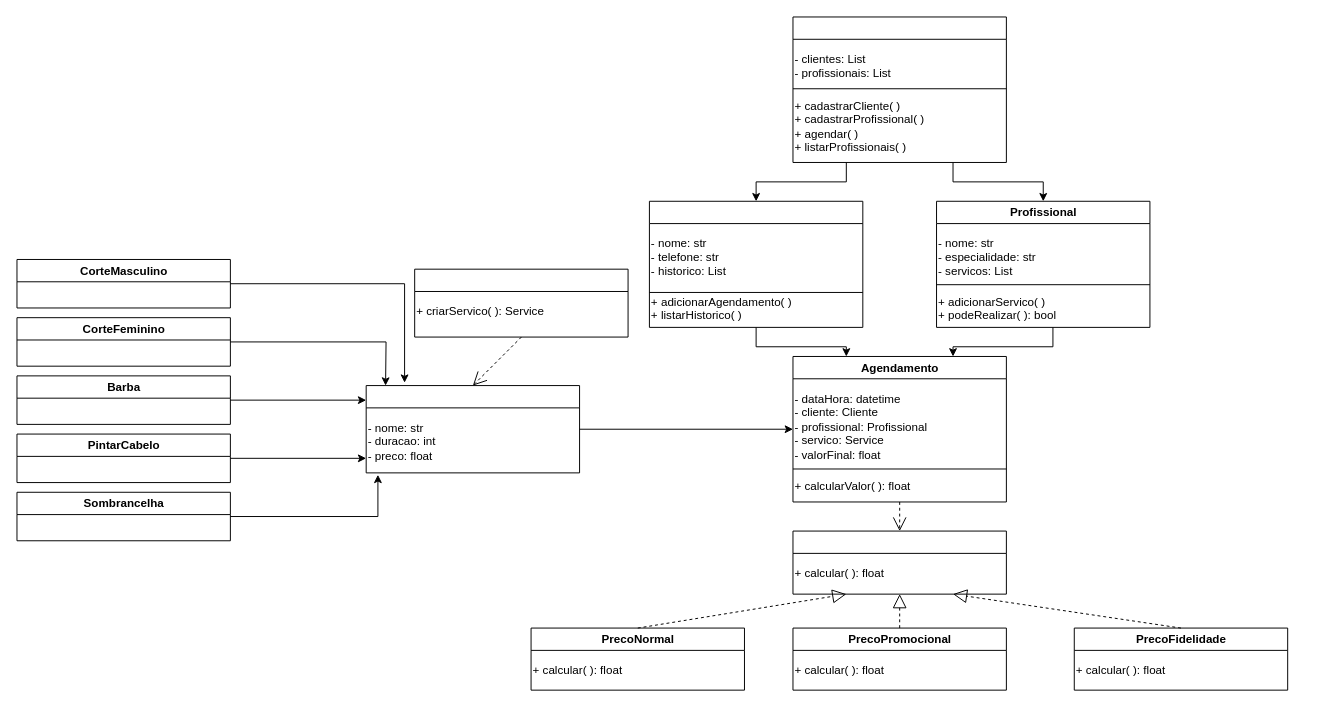
Image size: 1324x707. Some labels were removed from this diagram. Here are the shapes that lost their labels. From the top down, the box of each, then its label:
(792, 16, 1006, 162): Salao
(648, 200, 863, 327): Cliente
(414, 268, 628, 337): ServiceFactory
(365, 385, 580, 473): Service
(792, 530, 1006, 594): PriceStrategy
